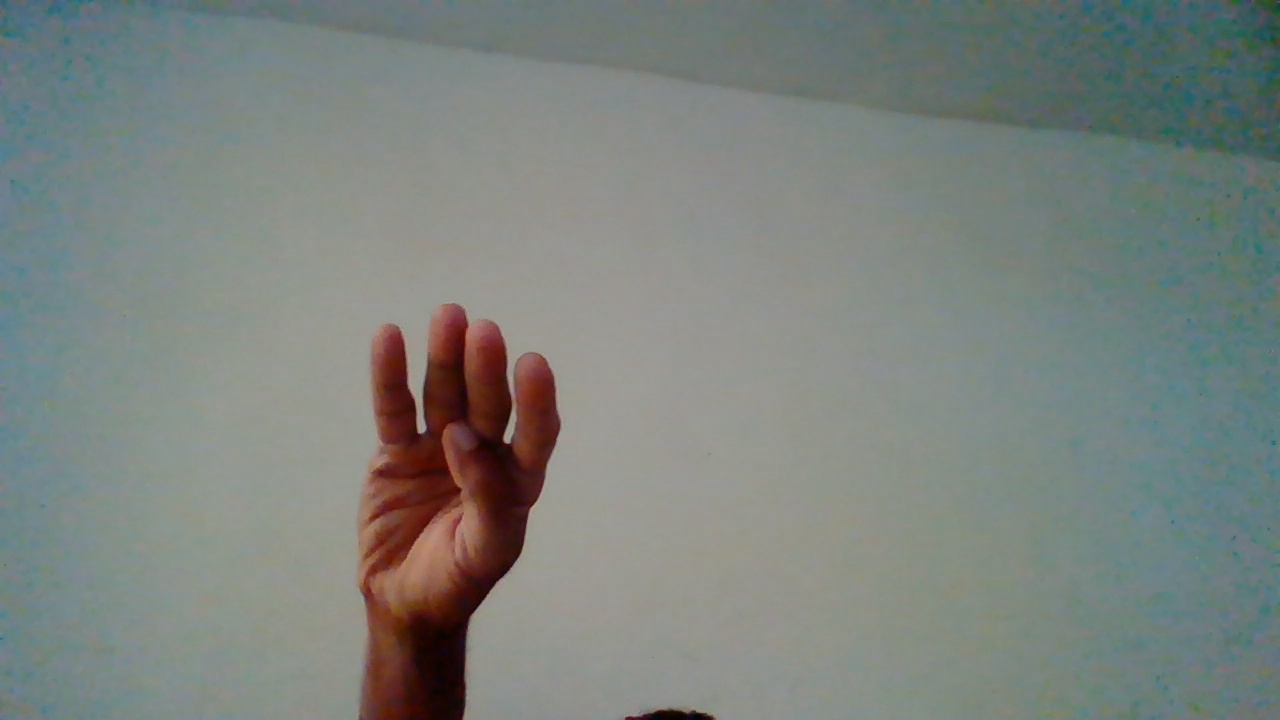me: (349, 302, 568, 707)
